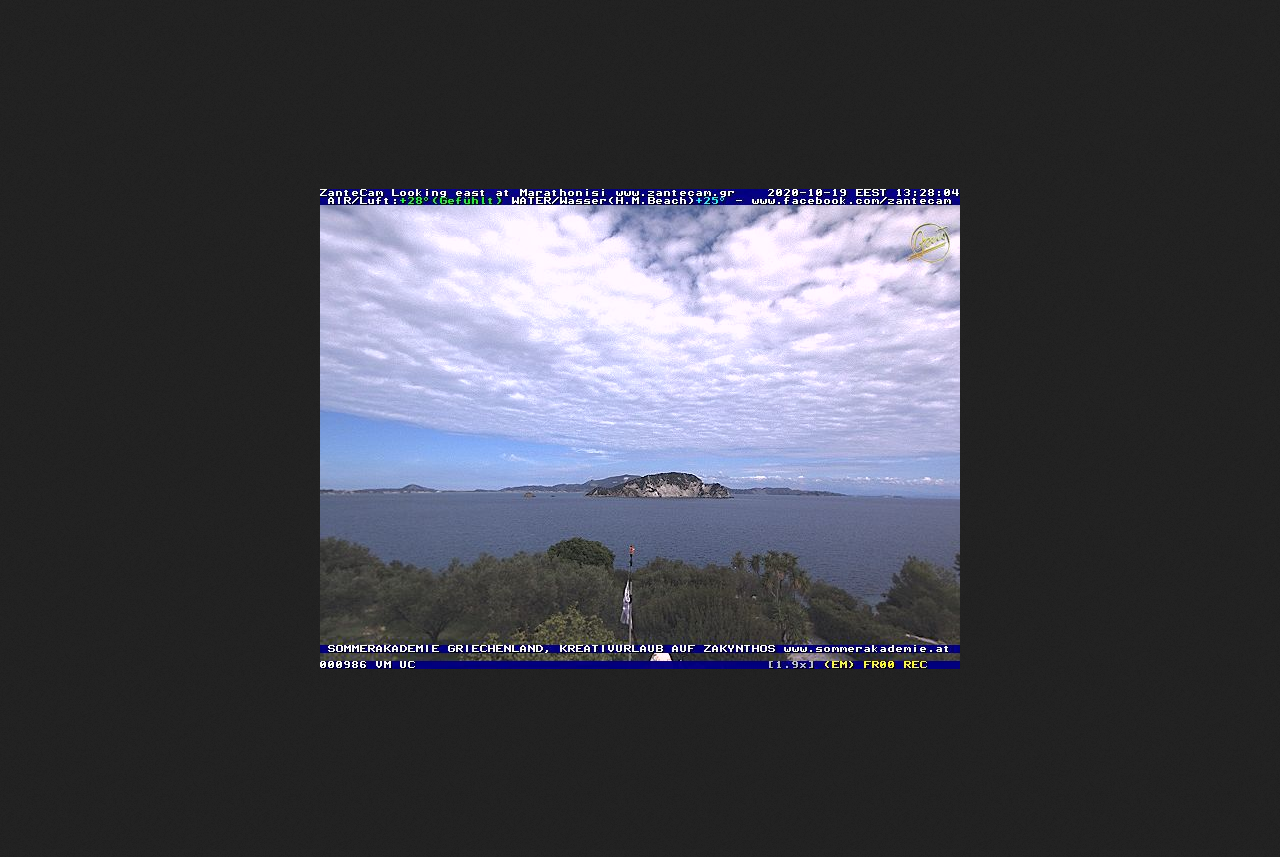no: (618, 572, 633, 623)
